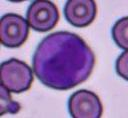M: (33, 31, 95, 89)
